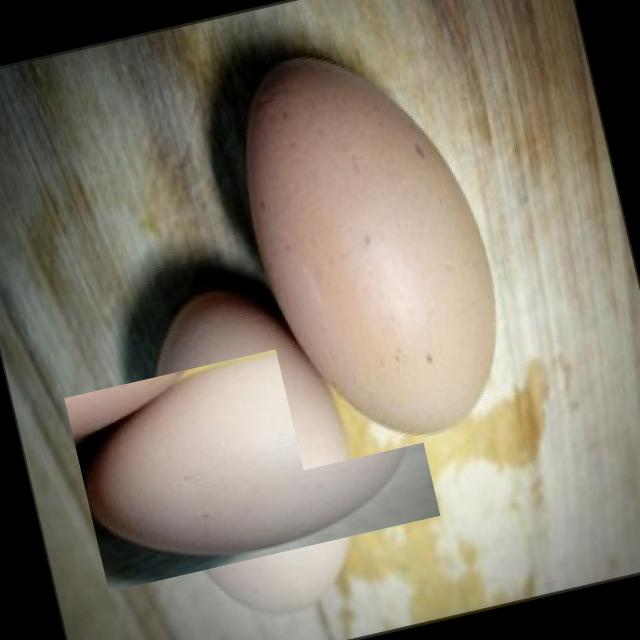eggs: (210, 13, 531, 470), (90, 295, 413, 619)
